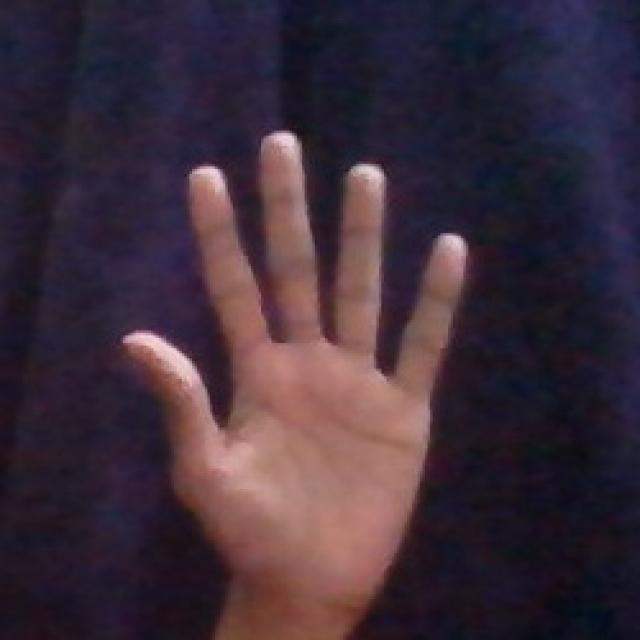Numeric-5: (117, 129, 467, 622)
